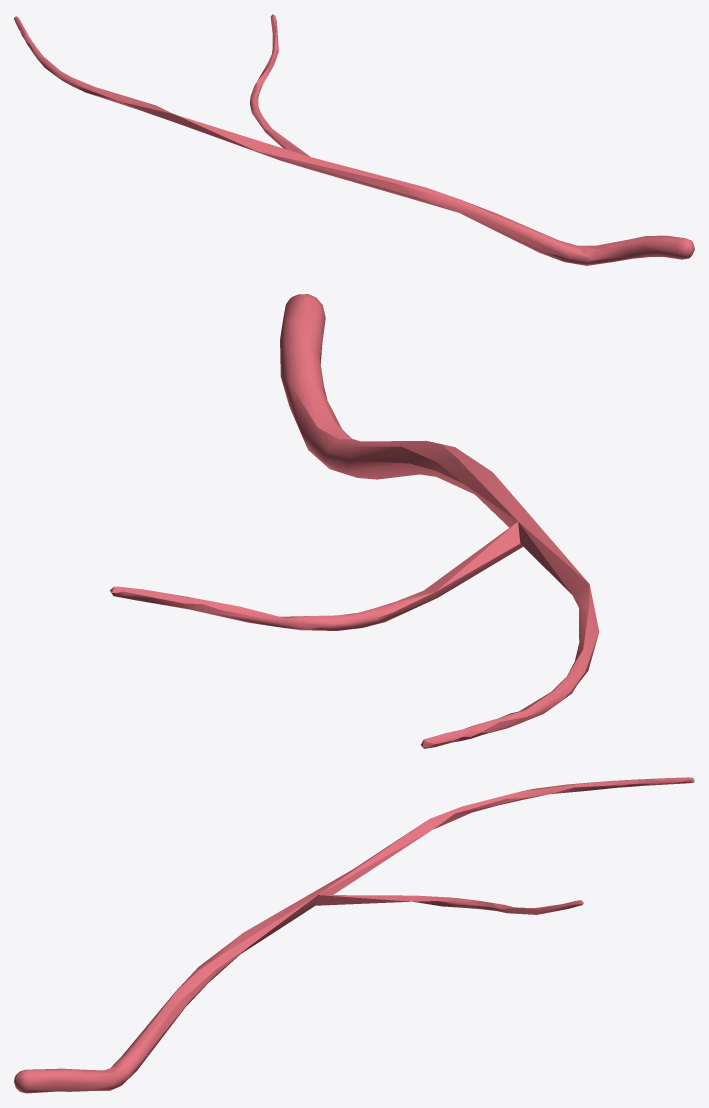
The model's file is fma75911_fj5215.glb.
The picture shows the model from 3 angles, top to bottom: view 1: azimuth 30°, elevation 25°; view 2: azimuth 150°, elevation 25°; view 3: azimuth 270°, elevation 25°; orthographic projection. The views are drawn at different scales.
Parts seen in each view (by area): view 1: FMA75911_FJ5215; view 2: FMA75911_FJ5215; view 3: FMA75911_FJ5215.
Part boxes in pixels (x1=…): FMA75911_FJ5215: x1=14, y1=14, x2=694, y2=265; FMA75911_FJ5215: x1=110, y1=294, x2=599, y2=748; FMA75911_FJ5215: x1=14, y1=777, x2=694, y2=1093.
Bounding box in the file's own units: 0.0397 × 0.0127 × 0.0548.
